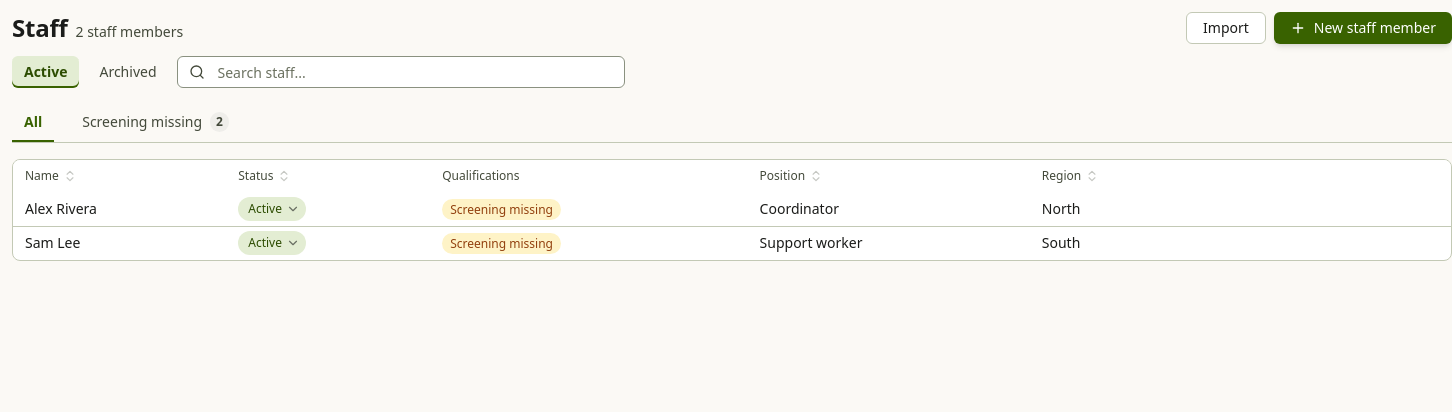
Scenario: StaffPage — PP-45 search › shows a "no match" empty state with a Clear search action when nothing matches
In the field with placeholder "Search staff...": (400, 72) [176,56,624,88], type "zzz-no-match"
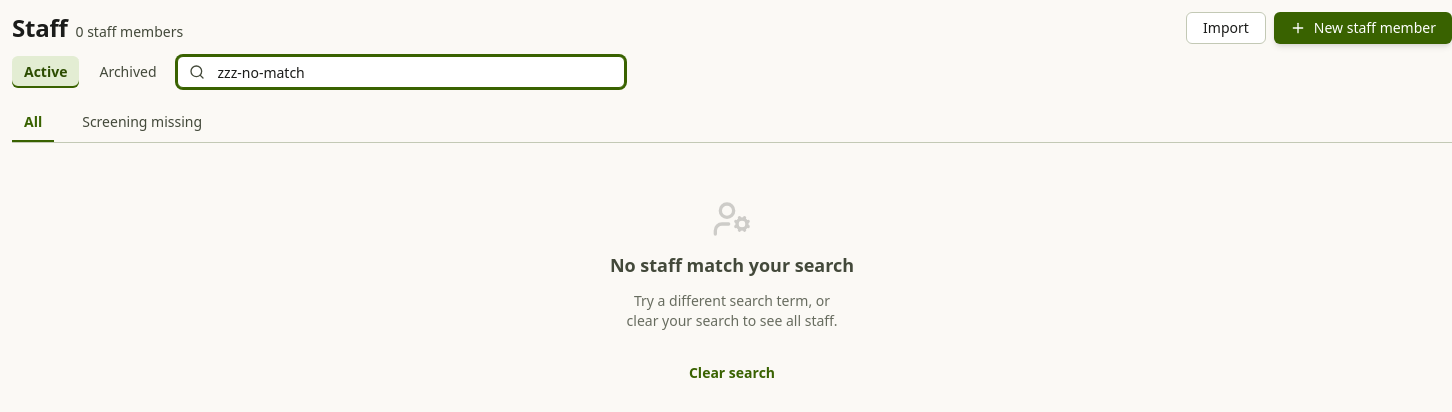
Expected: the text "No staff match your search" is shown, [610,251,854,279]
Click the button "Clear search": (732, 373) [681,351,783,395]
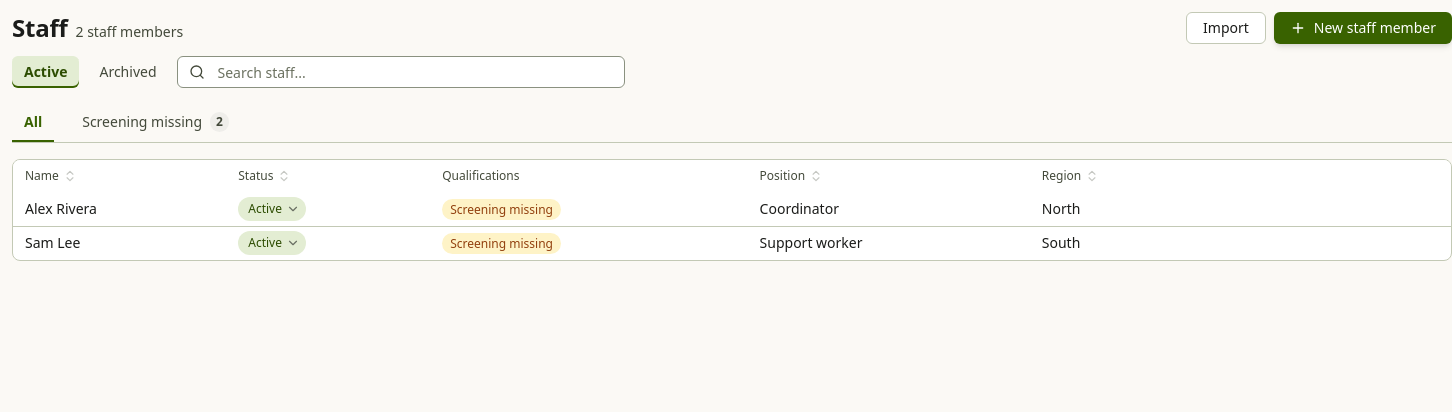
Expected: the link "Alex Rivera" is shown, [25,199,97,218]
